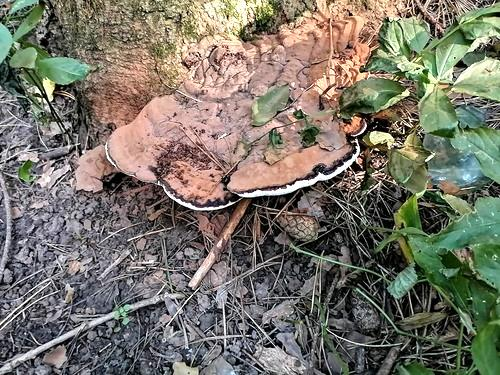Ganoderma - Fruit Body: (103, 80, 368, 213)
